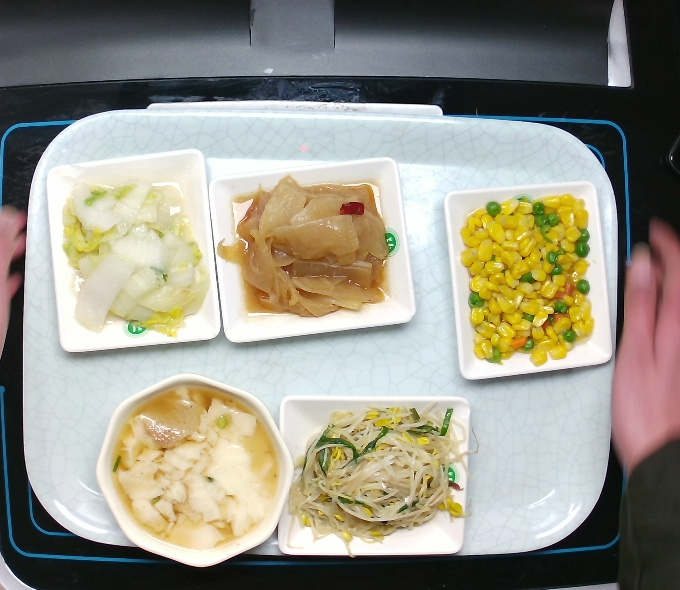wcq-DaBaiCai: (56, 175, 213, 342)
wcq-DongGua: (215, 172, 396, 320)
wcq-DouYa: (282, 399, 482, 559)
wcq-ShuiZhengDan: (107, 382, 283, 553)
wcq-TianMiTianDou: (455, 189, 600, 371)
